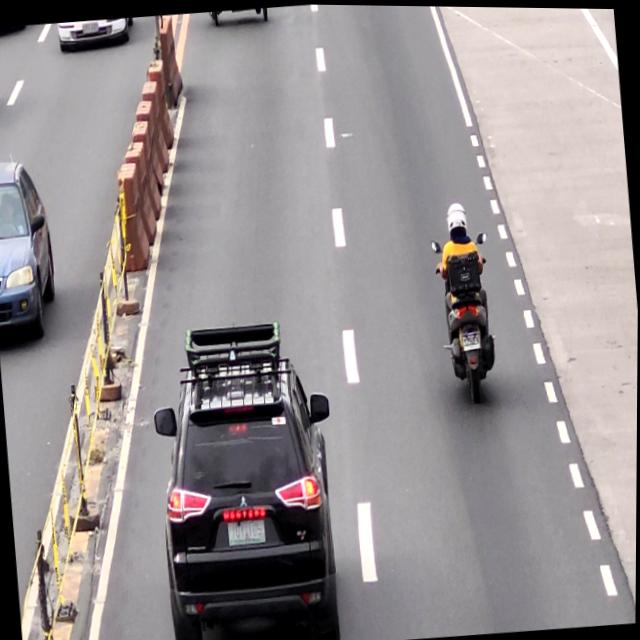Car: (147, 339, 350, 640)
License-Plate: (227, 518, 268, 545), (462, 329, 482, 349)
Motorcycle: (431, 233, 502, 405)
